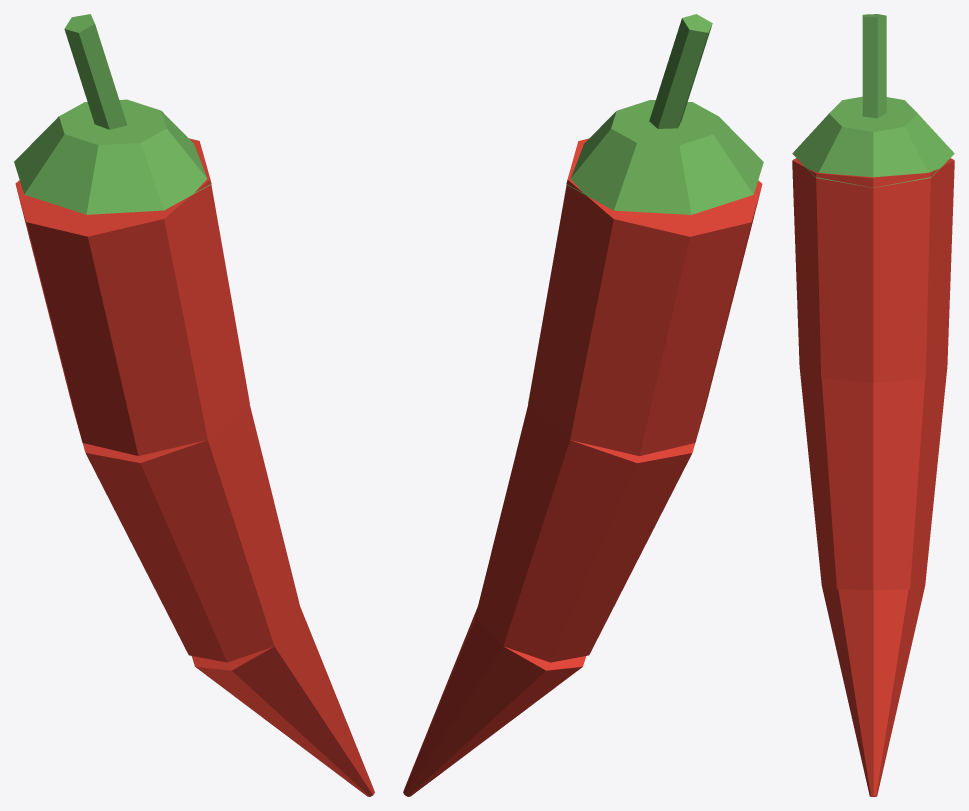
The model's file is aji.glb.
3 renders of one model, left to right at view 1: azimuth 30°, elevation 25°; view 2: azimuth 150°, elevation 25°; view 3: azimuth 270°, elevation 25°, orthographic. The views are drawn at different scales.
Parts seen in each view (by area): view 1: aji; view 2: aji; view 3: aji.
Part boxes in pixels (x1=…): aji: x1=14, y1=14, x2=374, y2=796; aji: x1=403, y1=14, x2=763, y2=796; aji: x1=792, y1=14, x2=954, y2=796.
Size of the model in its own units: 0.0434 by 0.1005 by 0.022.
